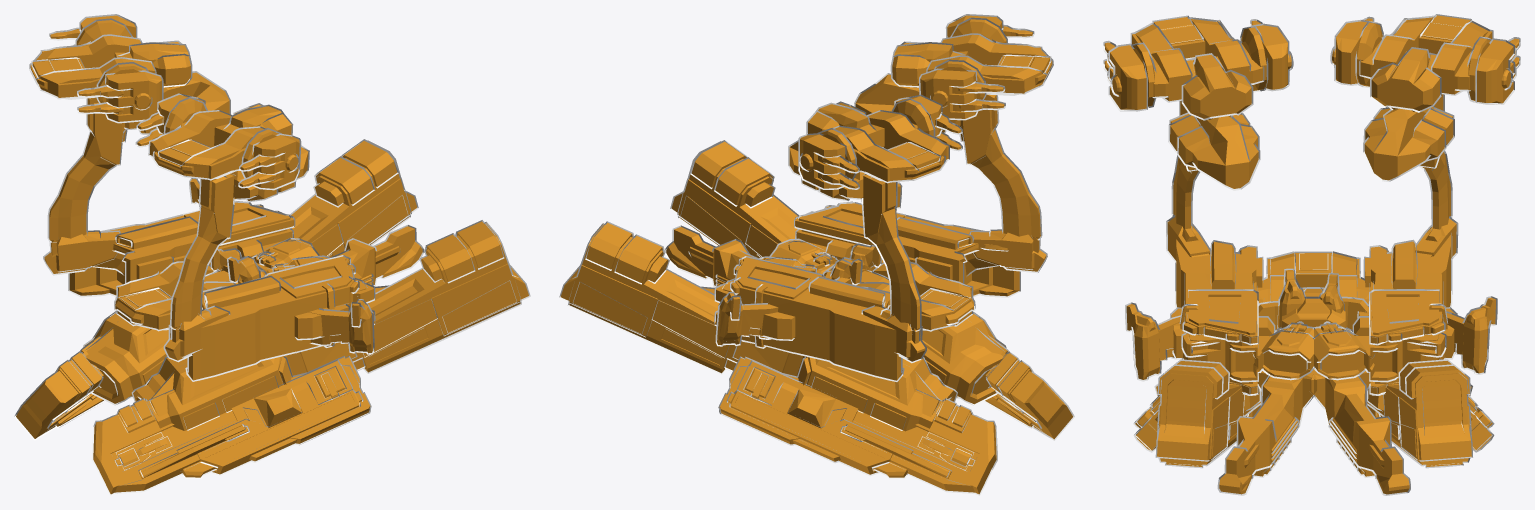
The model's file is ship1_orange.glb.
3 views of the same model, side by side, from view 1: azimuth 30°, elevation 25°; view 2: azimuth 150°, elevation 25°; view 3: azimuth 270°, elevation 25° (orthographic). The views are drawn at different scales.
Parts seen in each view (by area): view 1: ME_ship_IndexedFaceSet, ME_ship_IndexedFaceSet.002, ME_ship_IndexedFaceSet.001; view 2: ME_ship_IndexedFaceSet, ME_ship_IndexedFaceSet.002, ME_ship_IndexedFaceSet.001; view 3: ME_ship_IndexedFaceSet, ME_ship_IndexedFaceSet.001, ME_ship_IndexedFaceSet.002.
Boxes of the visible parts, <box> form: ME_ship_IndexedFaceSet: <box>14,139,530,495</box>; ME_ship_IndexedFaceSet.002: <box>29,14,260,283</box>; ME_ship_IndexedFaceSet.001: <box>135,93,374,362</box>; ME_ship_IndexedFaceSet: <box>559,140,1074,495</box>; ME_ship_IndexedFaceSet.002: <box>715,94,962,363</box>; ME_ship_IndexedFaceSet.001: <box>830,14,1053,285</box>; ME_ship_IndexedFaceSet: <box>1133,233,1494,495</box>; ME_ship_IndexedFaceSet.001: <box>1103,15,1344,381</box>; ME_ship_IndexedFaceSet.002: <box>1277,14,1520,374</box>.
Size of the model in its own units: 560 by 482 by 445.
